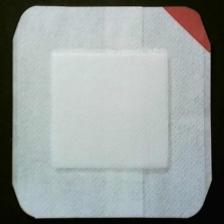Dressing: (9, 5, 220, 222)
Red_T: (164, 5, 215, 54)
